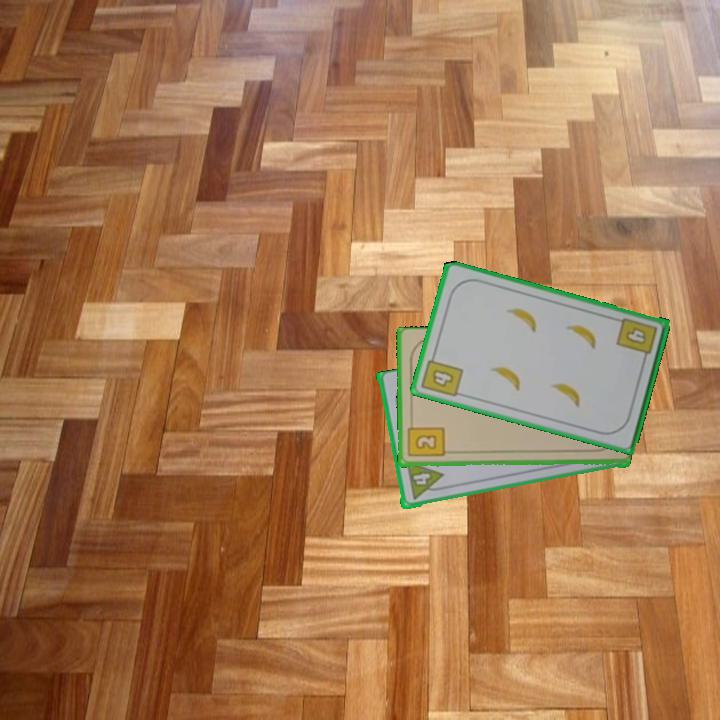2b: (404, 418, 446, 460)
4b: (418, 349, 466, 400), (613, 314, 660, 364)
4p: (406, 459, 444, 491)
